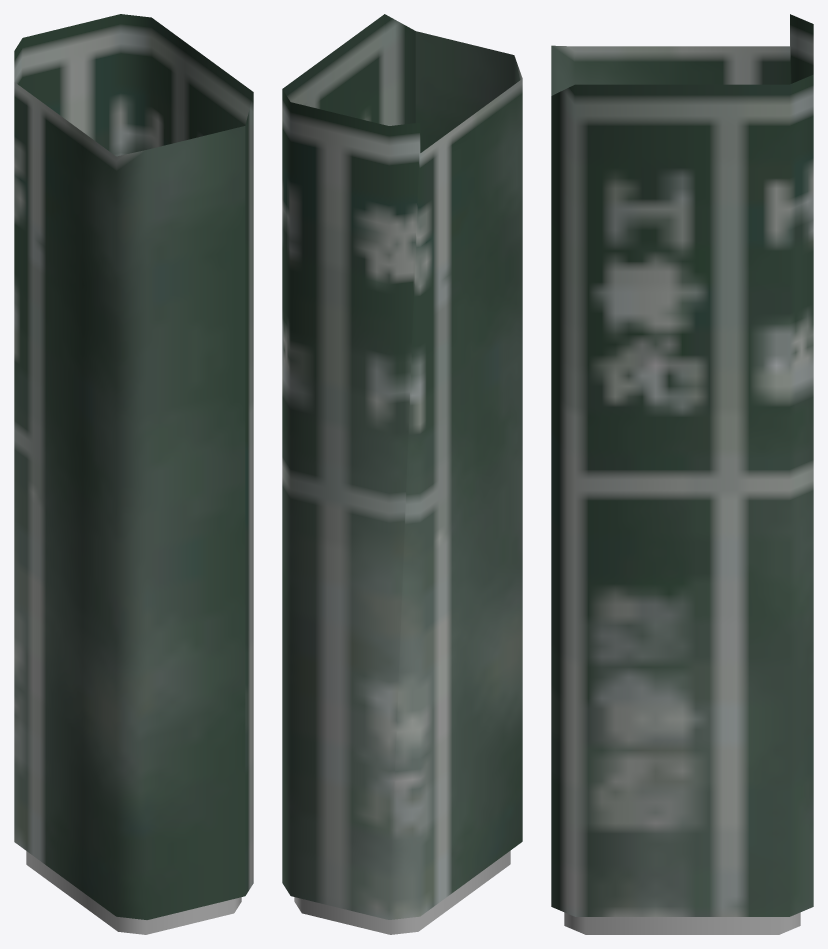
The picture shows the model from 3 angles, left to right: view 1: azimuth 30°, elevation 25°; view 2: azimuth 150°, elevation 25°; view 3: azimuth 270°, elevation 25°; orthographic projection. The views are drawn at different scales.
Parts seen in each view (by area): view 1: Joint_0_Object_0, Joint_0_Object_1; view 2: Joint_0_Object_0, Joint_0_Object_1; view 3: Joint_0_Object_0, Joint_0_Object_1.
Part boxes in pixels (left/top/right/bottom): Joint_0_Object_0: left=14, top=14, right=253, bottom=919; Joint_0_Object_1: left=26, top=851, right=241, bottom=934; Joint_0_Object_0: left=282, top=14, right=522, bottom=919; Joint_0_Object_1: left=294, top=851, right=510, bottom=934; Joint_0_Object_0: left=551, top=14, right=813, bottom=916; Joint_0_Object_1: left=564, top=912, right=800, bottom=934.
Bounding box in the file's own units: 70 × 395 × 110.
